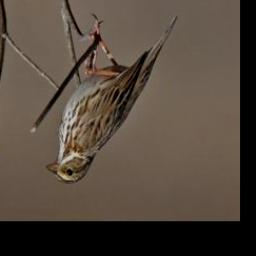Sparrow: (46, 13, 180, 185)
